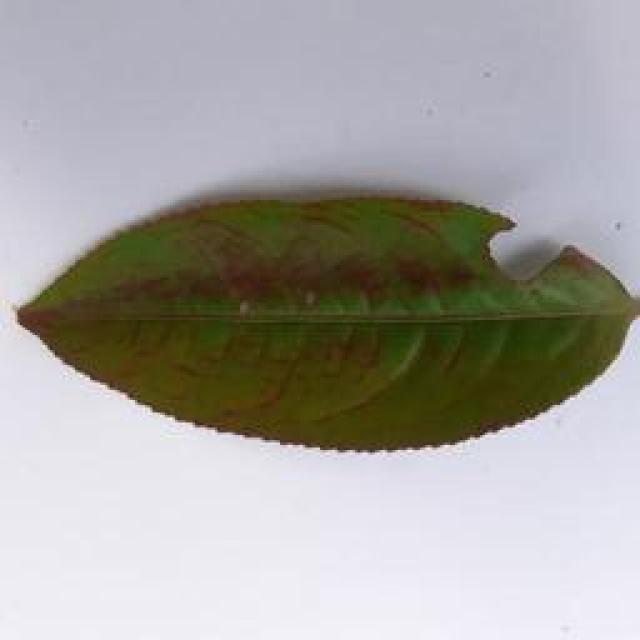Red Leaf Spot: (0, 179, 640, 466)
